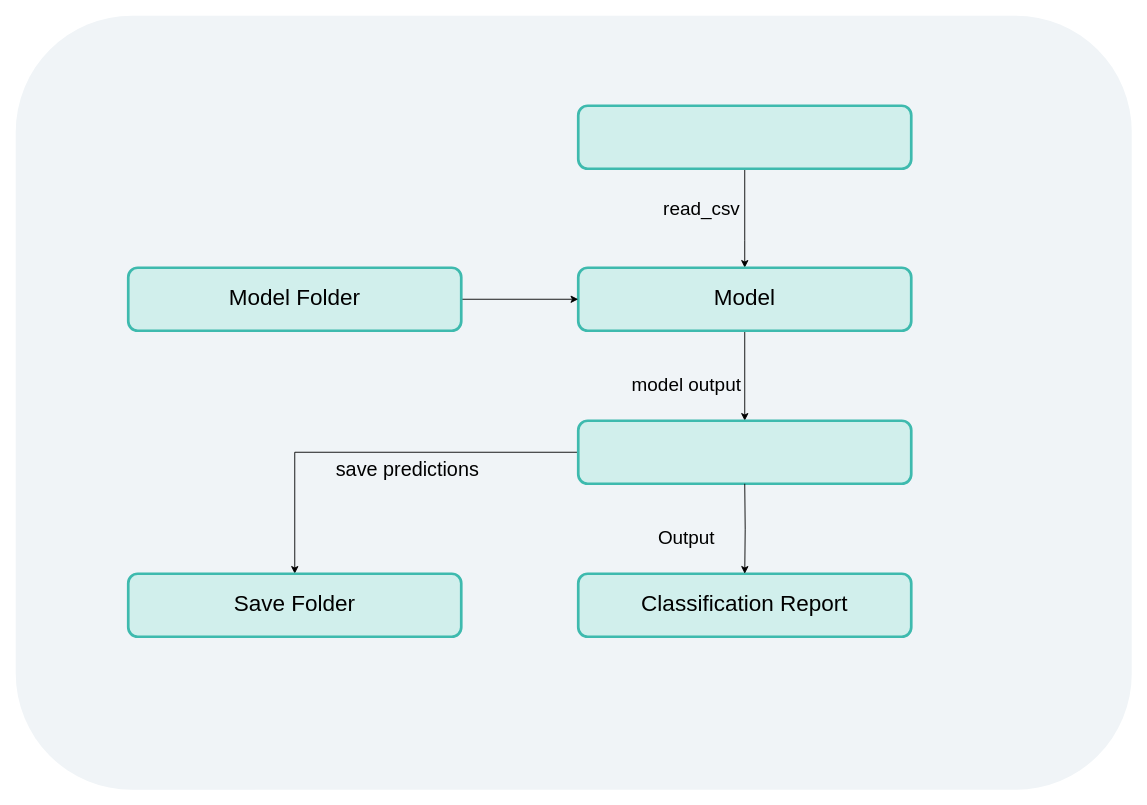
This 1147x805 diagram has some shape labels left out. The centre of each missing label's shape, as x and y in pixels:
"Input Data" goes at [744,137].
"Predictions" goes at [744,452].
